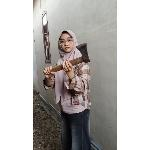Kapak: (49, 40, 92, 77)
